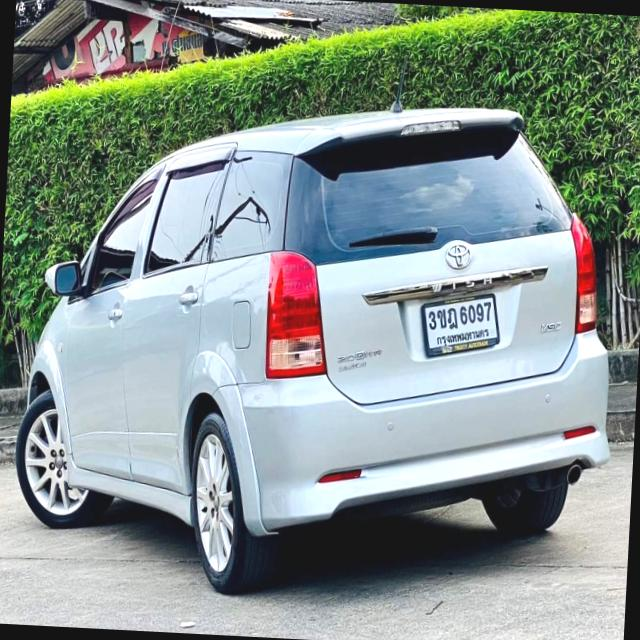license_plate: (416, 288, 504, 365)
